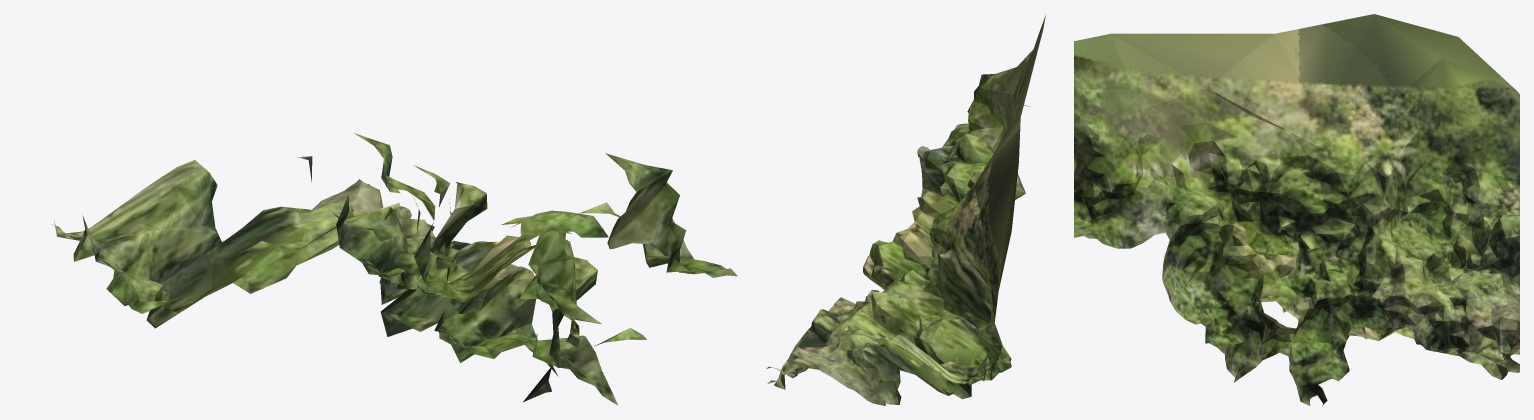
3 renders of one model, left to right at view 1: azimuth 30°, elevation 25°; view 2: azimuth 150°, elevation 25°; view 3: azimuth 270°, elevation 25°, orthographic. The views are drawn at different scales.
Size of the model in its own units: 35.36 by 41.03 by 52.22.
3 materials, 3 textured.
